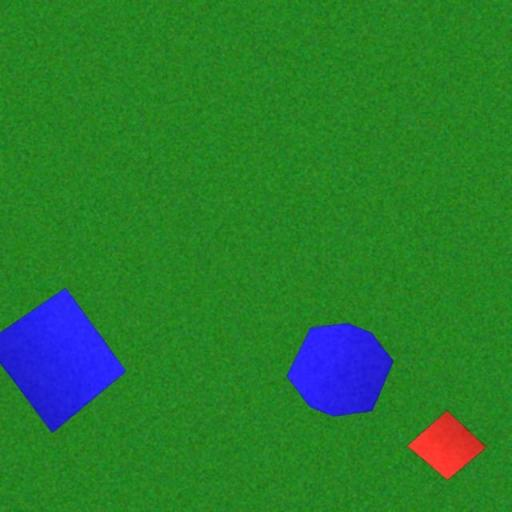BLUE_SQUARE: (0, 286, 127, 434)
RED_SQUARE: (406, 410, 488, 480)
